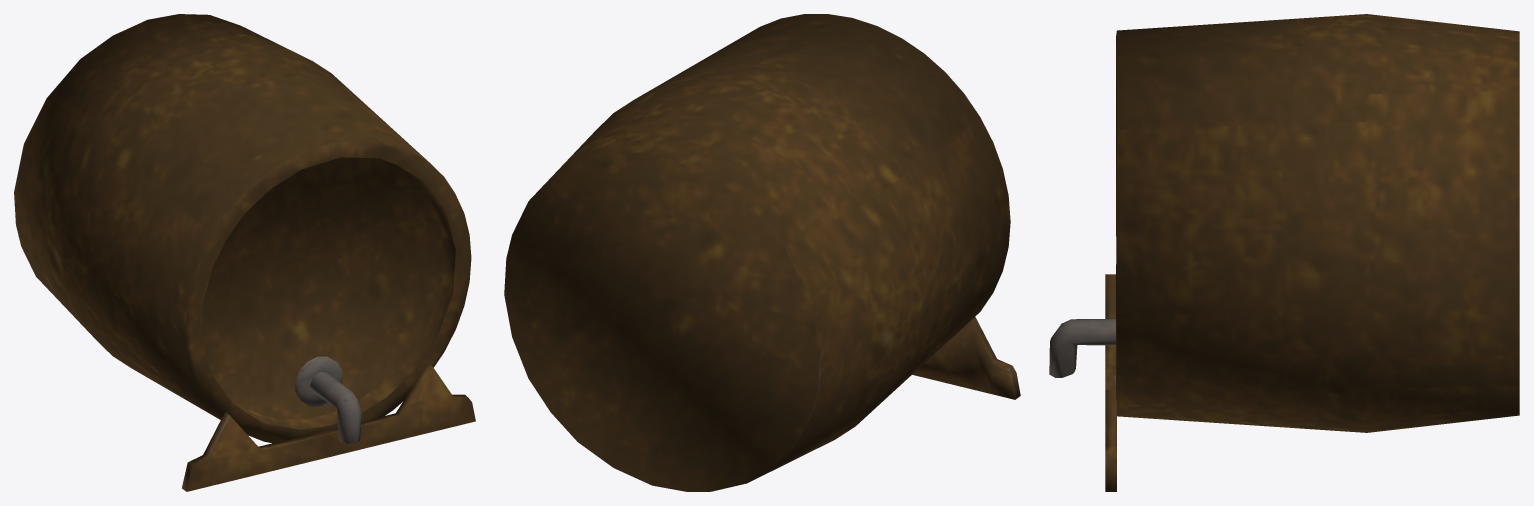
The model's file is keg.glb.
3 renders of one model, left to right at view 1: azimuth 30°, elevation 25°; view 2: azimuth 150°, elevation 25°; view 3: azimuth 270°, elevation 25°, orthographic. The views are drawn at different scales.
Visible parts, largest first — view 1: barbuilding-col.015; view 2: barbuilding-col.015; view 3: barbuilding-col.015.
Boxes of the visible parts, left/top/right/bottom form: barbuilding-col.015: left=14, top=14, right=475, bottom=491; barbuilding-col.015: left=504, top=14, right=1020, bottom=491; barbuilding-col.015: left=1049, top=14, right=1519, bottom=491.
Size of the model in its own units: 0.8382 by 0.8382 by 0.9404.
1 material, 1 textured.
